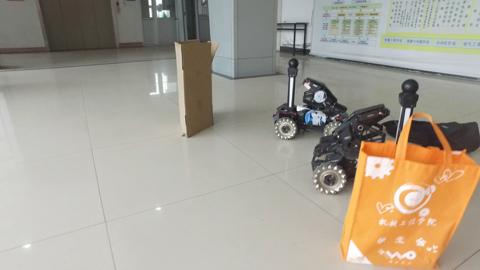box: (173, 38, 217, 140)
chariot: (311, 78, 419, 195), (275, 56, 348, 140)
